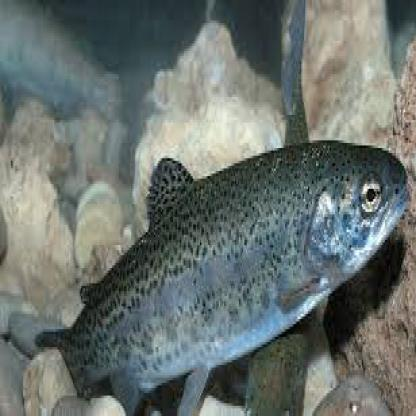fish: (37, 136, 408, 410)
